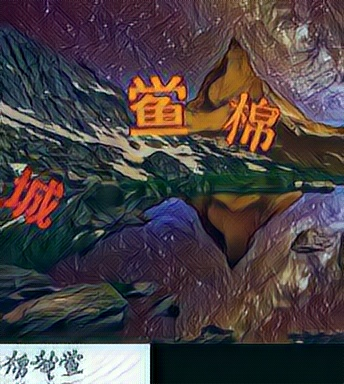B3C7: (4, 166, 64, 230)
C3DE: (221, 90, 281, 154)
F6D7: (127, 73, 187, 137)
